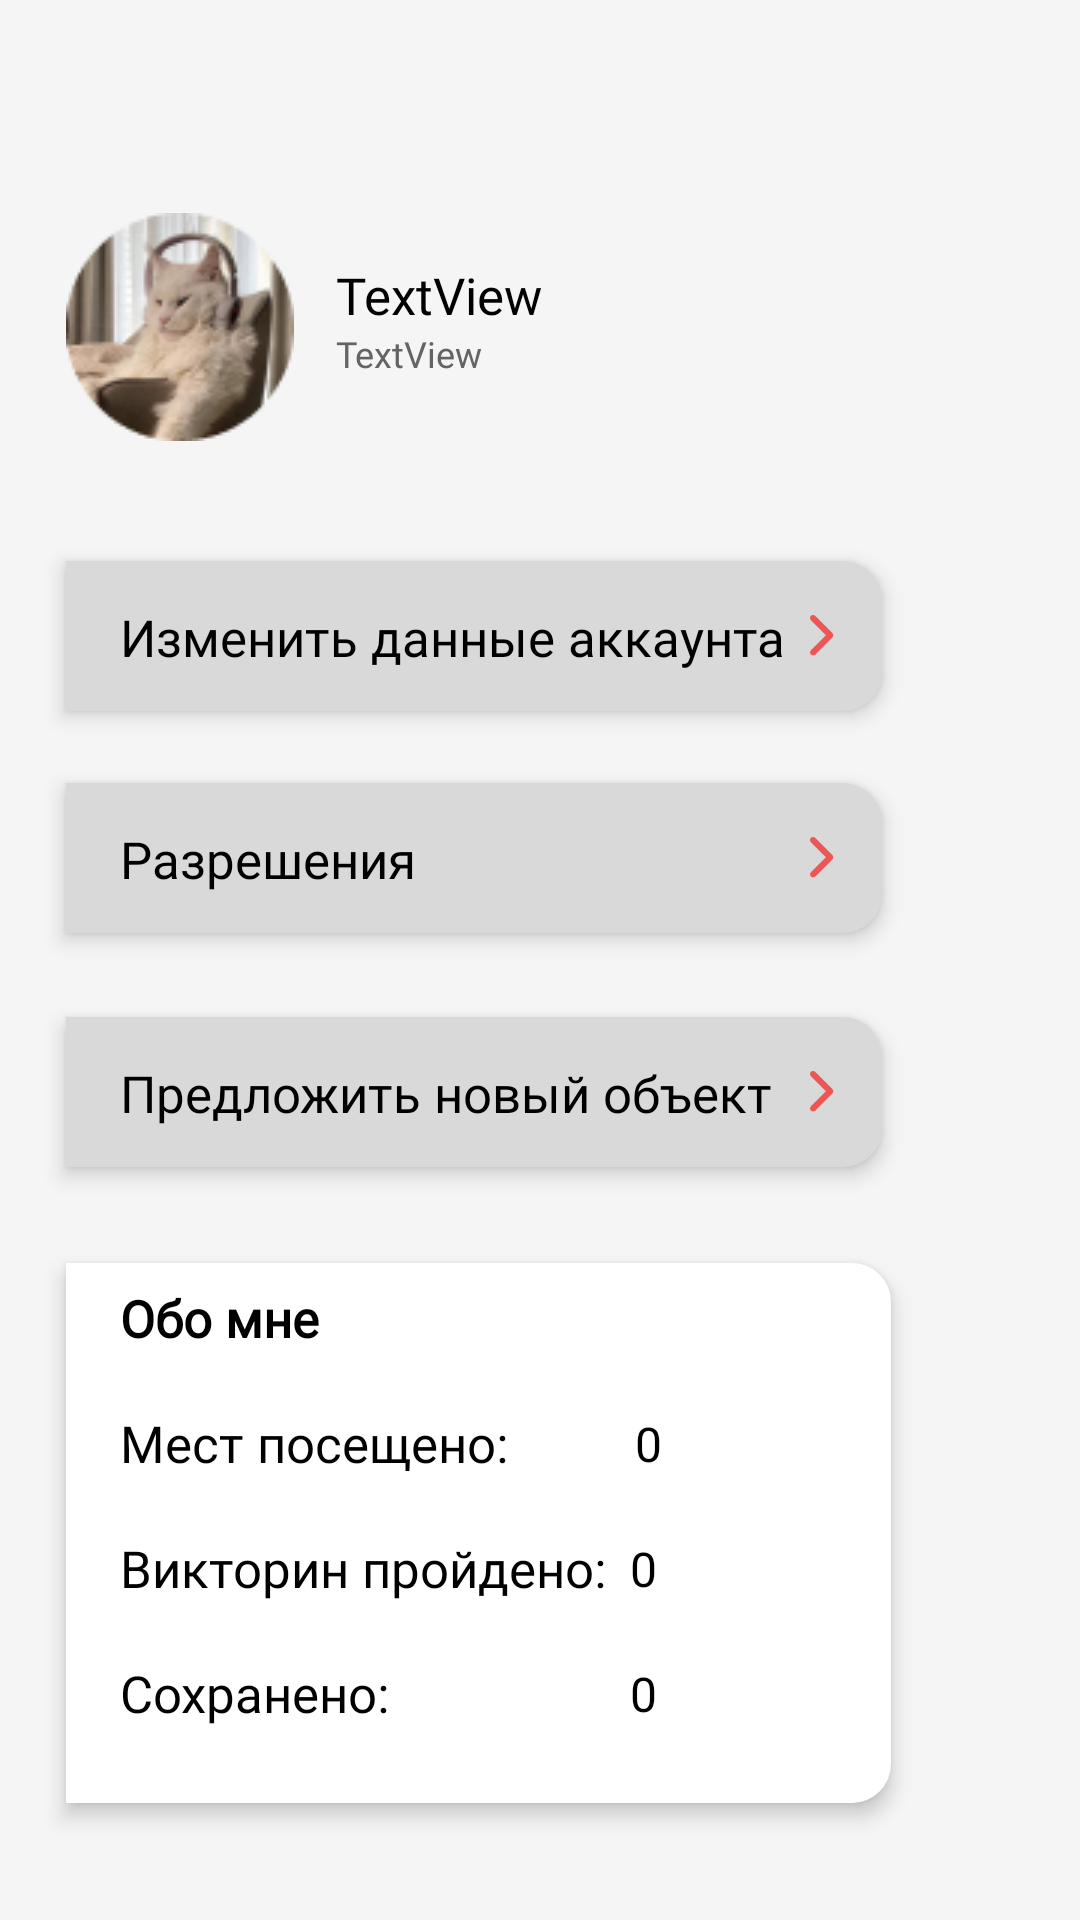

Screen size 1080*1920. Icon name, then its center in pixels as point (x, y):
arrow: point (822, 635), point (822, 857), point (822, 1091)
ava: point (180, 327)
